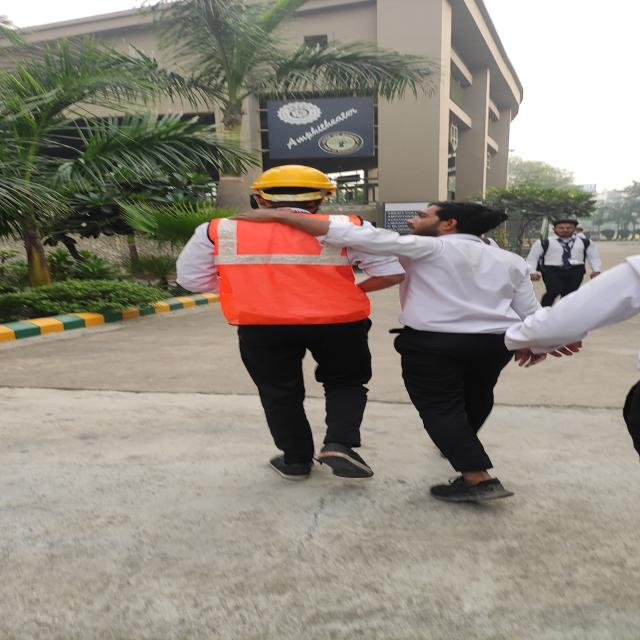safe: (193, 164, 393, 485)
unsafe: (371, 198, 544, 504), (527, 217, 598, 306)
